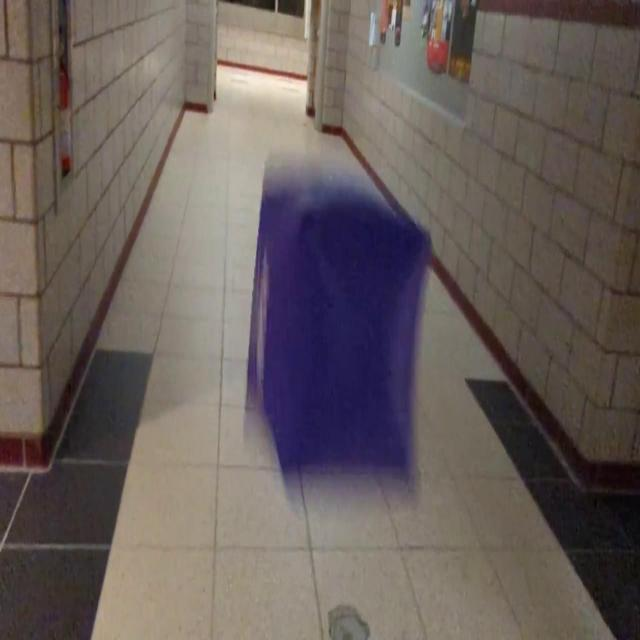frc_cube: (245, 181, 429, 478)
